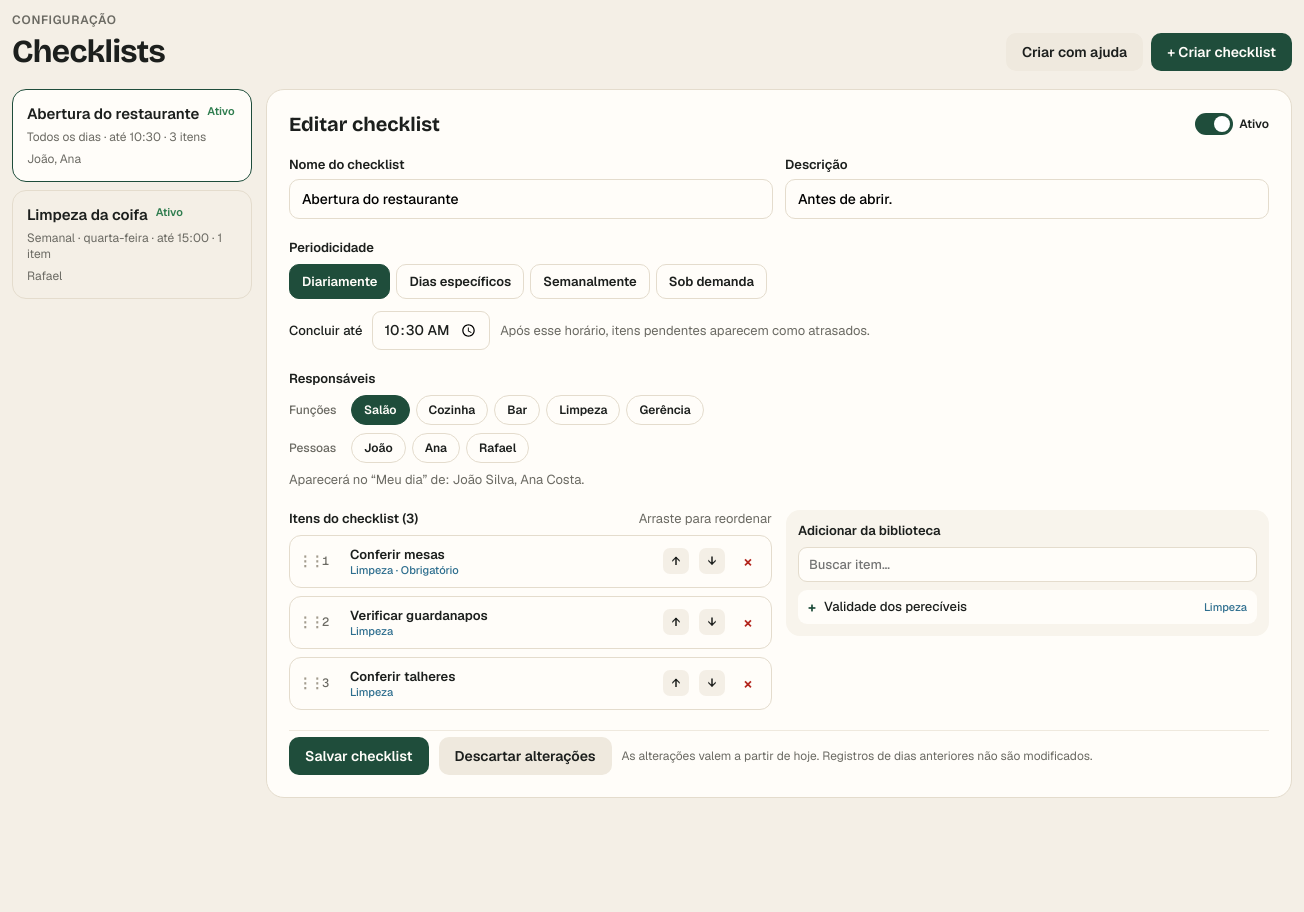
Scenario: US14 — checklists (web) › descartar volta ao que estava salvo; ↑ no primeiro é ignorado (borda)
Expected: the heading "Editar checklist" is shown, [289,112,440,136]
Click the button named "Subir": (676, 561) [663,548,689,574]
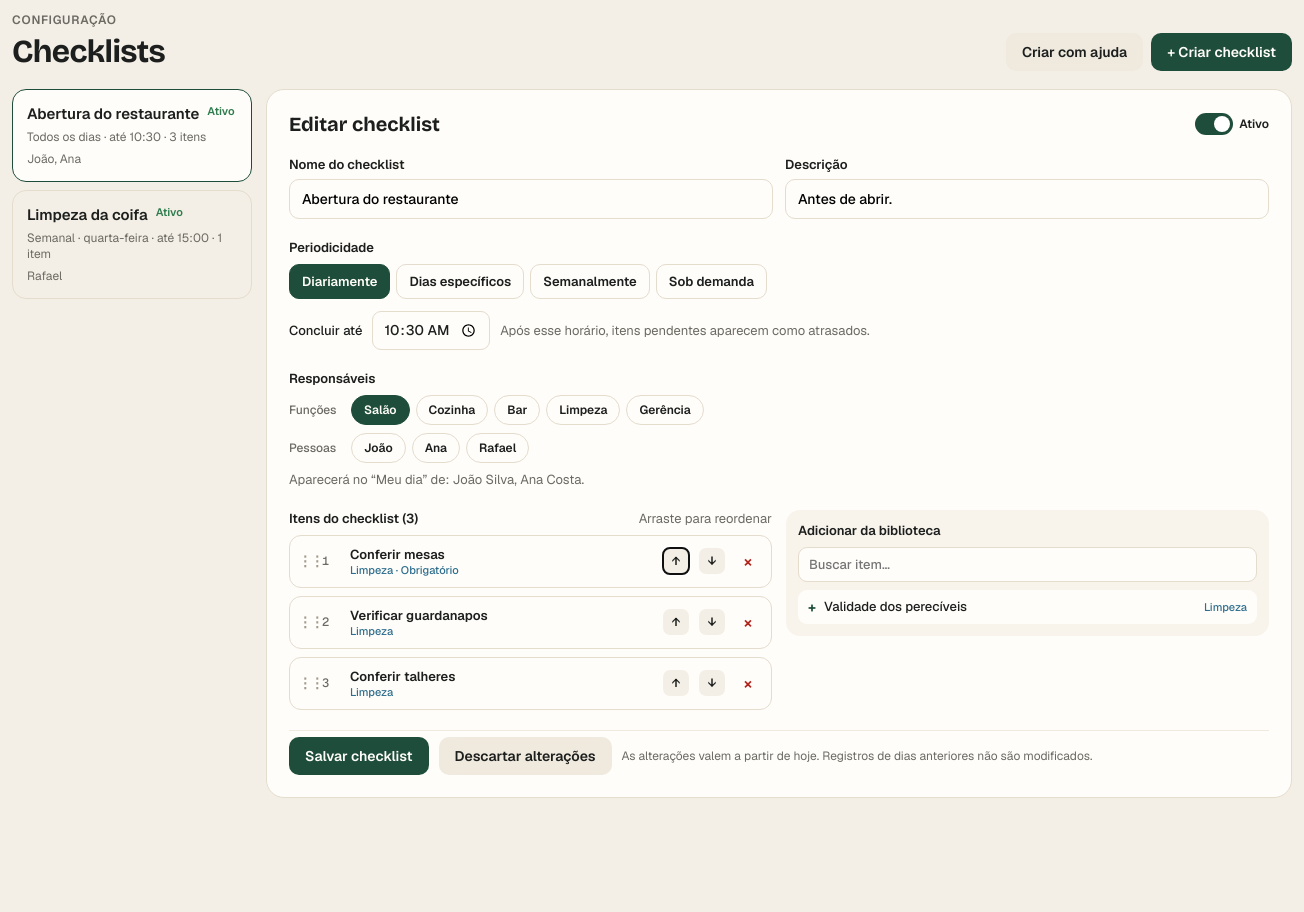
Expected: the text with test id "cl-item-name" reads "Conferir mesas", [350,546,445,562]
Replace the text in the field labelled "Nome do checklist" with "Rascunho": (531, 199) [289,179,773,219]
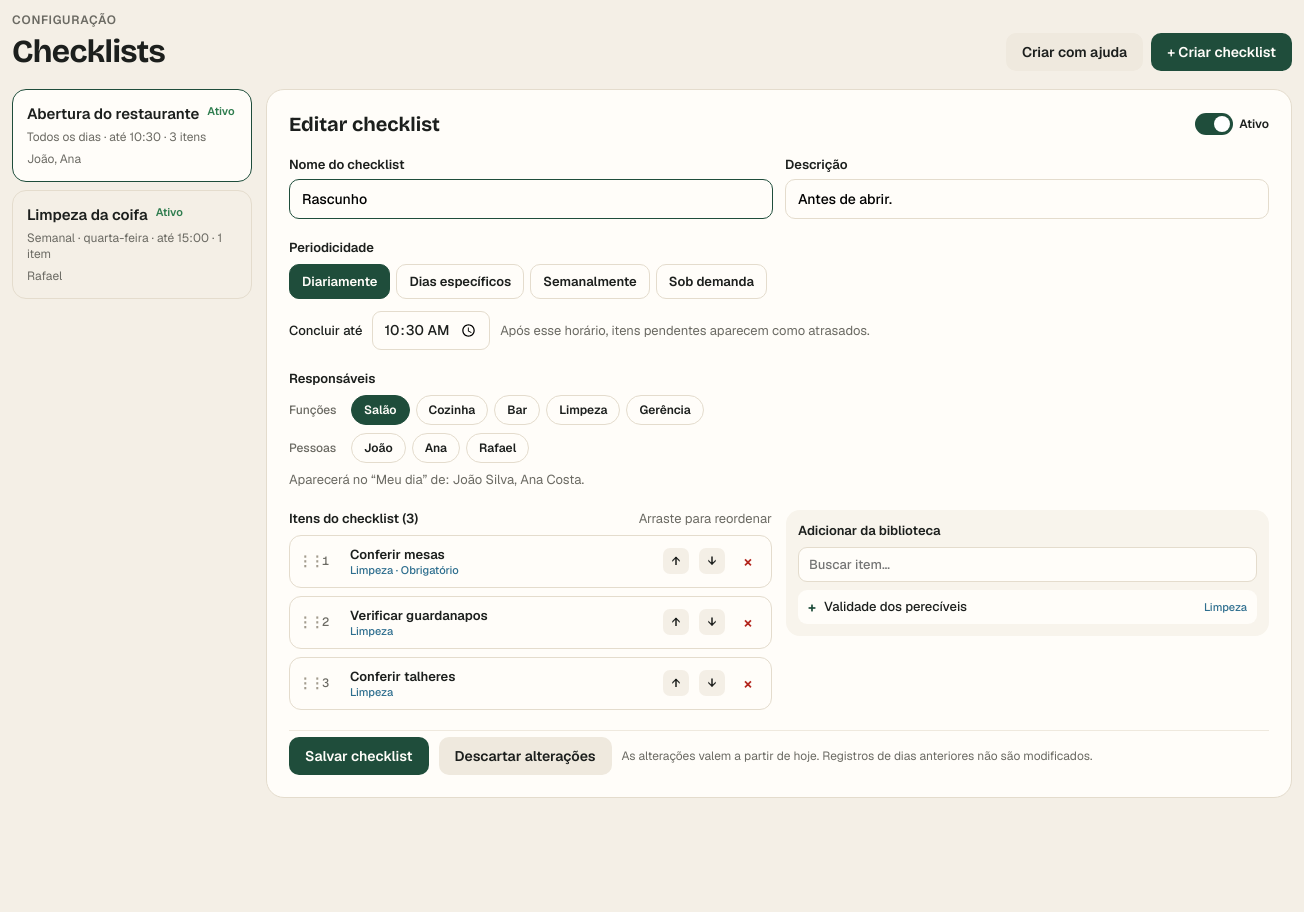
Click the button "Descartar alterações": (525, 756) [439,736,612,774]
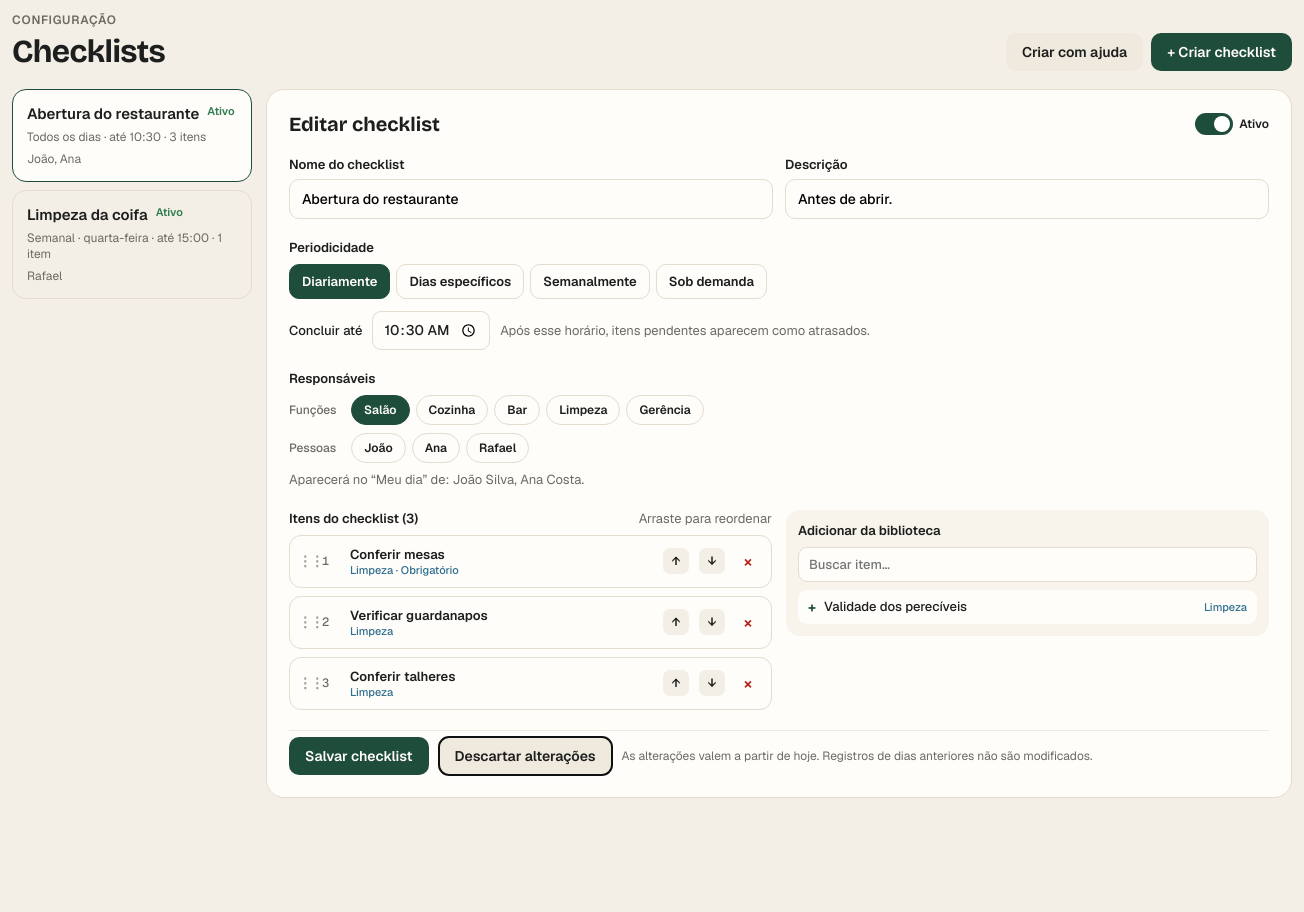
Expected: the field labelled "Nome do checklist" holds "Abertura do restaurante", [289,179,773,219]
